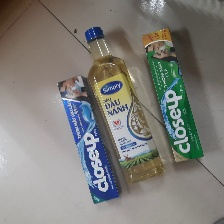CloseUp Tuyet: (56, 75, 122, 207)
CloseUp Xanh: (142, 26, 205, 166)
Simply: (86, 25, 165, 185)
